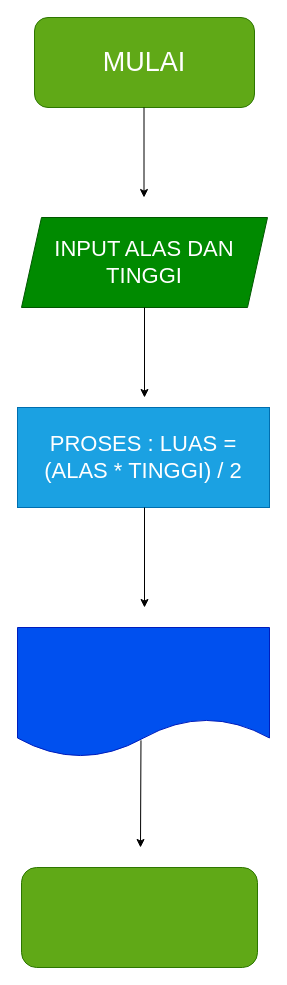
Some shapes in this 287 by 985 pixel diagram are drawn without their labels. Each missing label, with the centre of its shape:
OUTPUS LUAS: point (143, 692)
SELESAI: point (139, 917)
